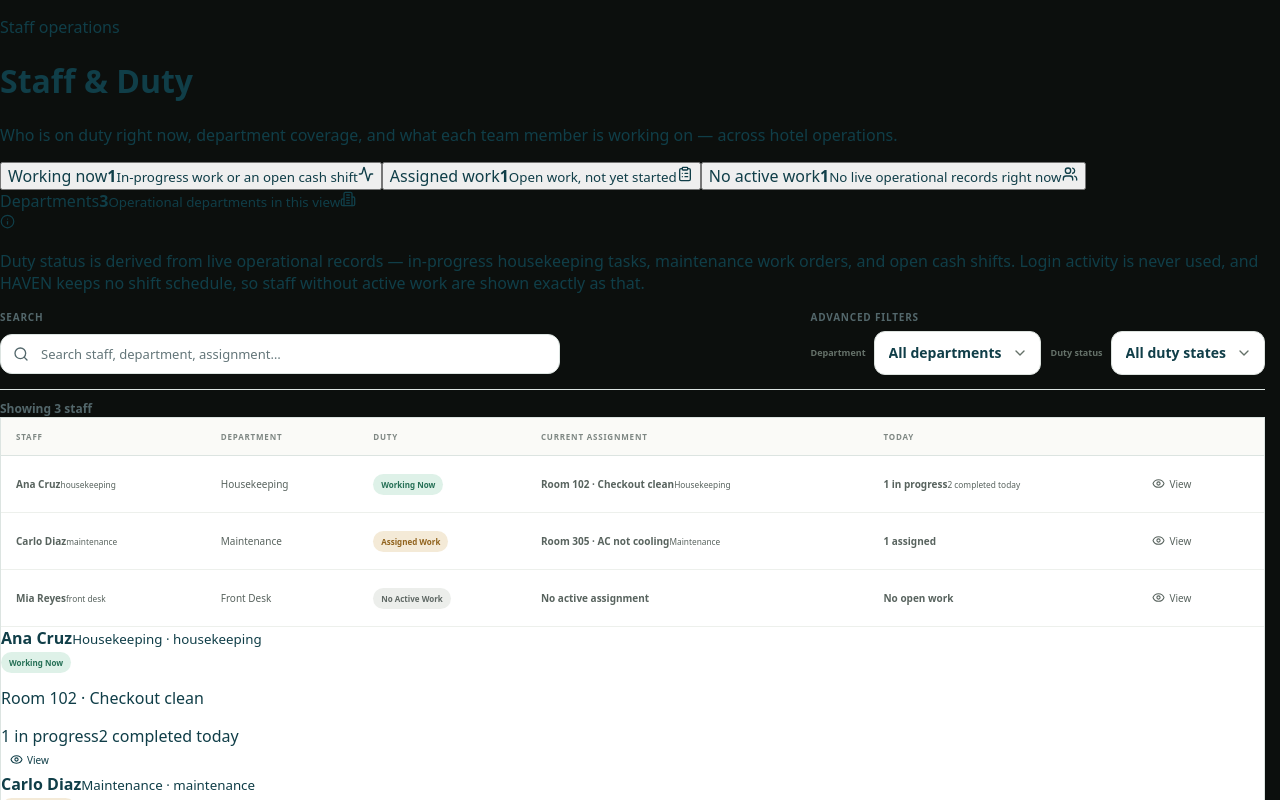
it: StaffDutyPanel › opens the detail modal with duty, assignment, workload, and the derivation note
The width and height of the screenshot is (1280, 800).
Click the 1st button "View".
click(1172, 484)  # box [1144,471,1200,497]
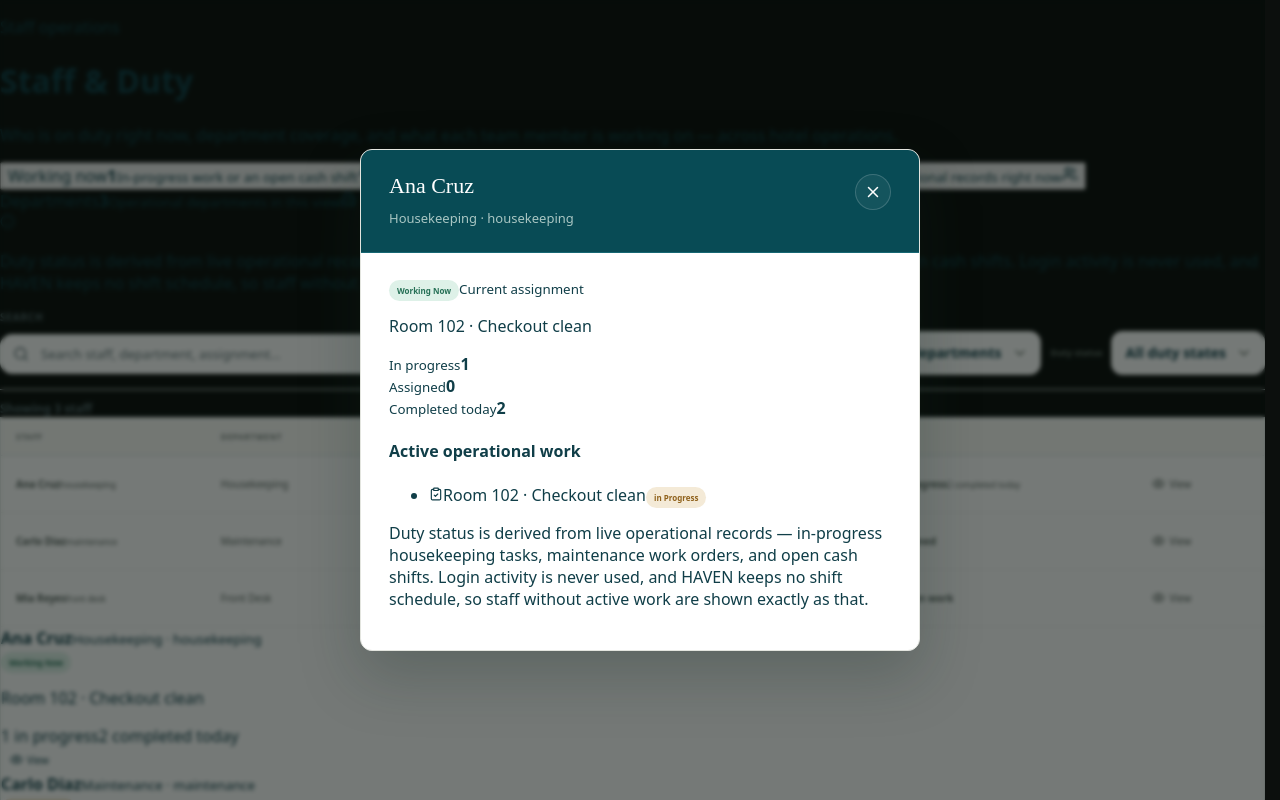
Result: the heading "Ana Cruz" is shown at [389,173,474,198]
Result: the text "Working now" is shown at [389,280,459,301]
Result: the text "Room 102 · Checkout clean" is shown 2 times at [389,315,592,337]; [443,484,646,506]
